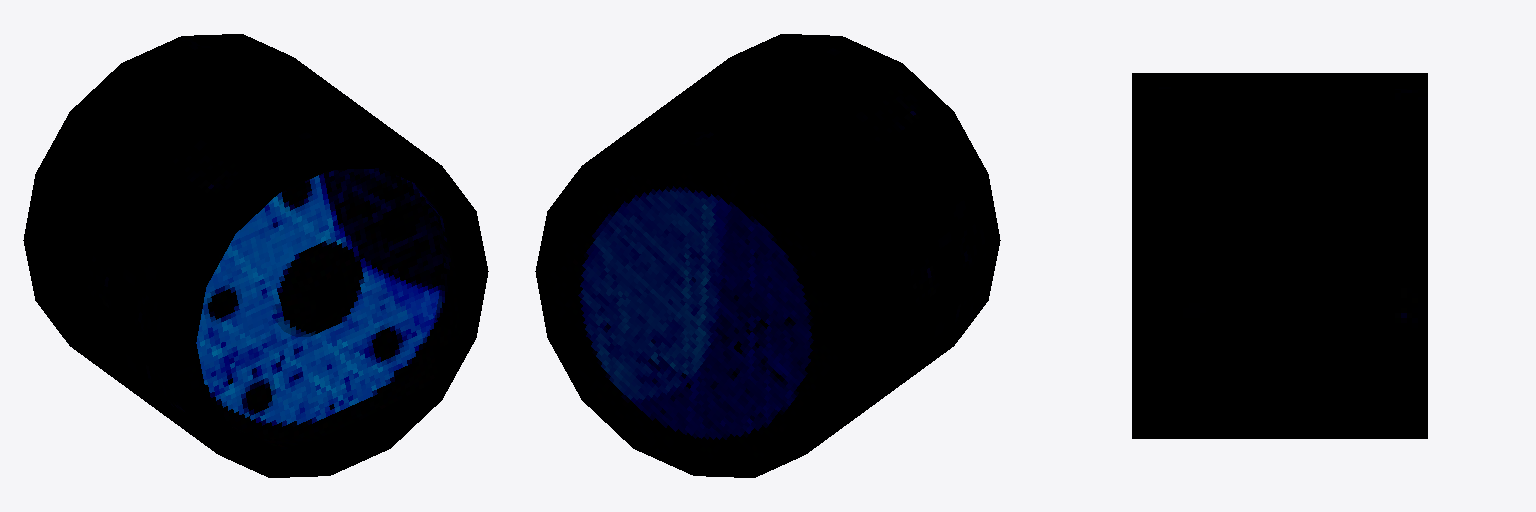
3 renders of one model, left to right at view 1: azimuth 30°, elevation 25°; view 2: azimuth 150°, elevation 25°; view 3: azimuth 270°, elevation 25°, orthographic.
Visible parts, largest first — view 1: lw_Cylinder.003; view 2: lw_Cylinder.003; view 3: lw_Cylinder.003.
Part boxes in pixels (x1,y1,x2,y2): lw_Cylinder.003: (23, 34, 488, 477); lw_Cylinder.003: (535, 34, 1000, 477); lw_Cylinder.003: (1132, 73, 1427, 438).
Size of the model in its own units: 1.21 by 1.21 by 0.9843.
Materials: 1 (1 with a texture image).